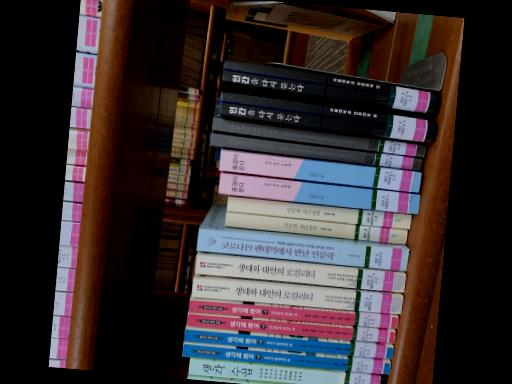book-spine: (222, 58, 440, 113), (219, 89, 436, 142), (196, 227, 408, 271), (211, 115, 426, 156), (218, 148, 421, 191), (218, 171, 420, 213), (209, 132, 423, 170), (194, 254, 407, 292), (191, 276, 403, 313), (182, 342, 391, 373), (184, 327, 393, 358), (187, 311, 395, 342), (225, 209, 407, 244), (188, 297, 398, 327), (227, 195, 412, 229), (188, 356, 387, 384)
